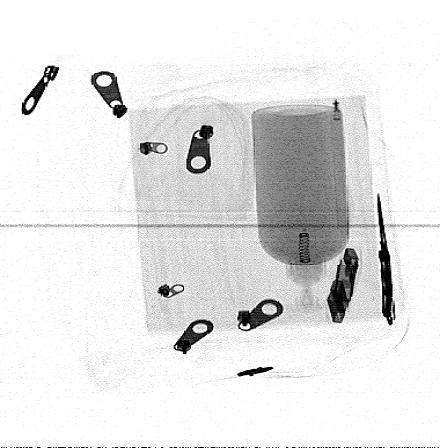Knife: (376, 191, 396, 327)
